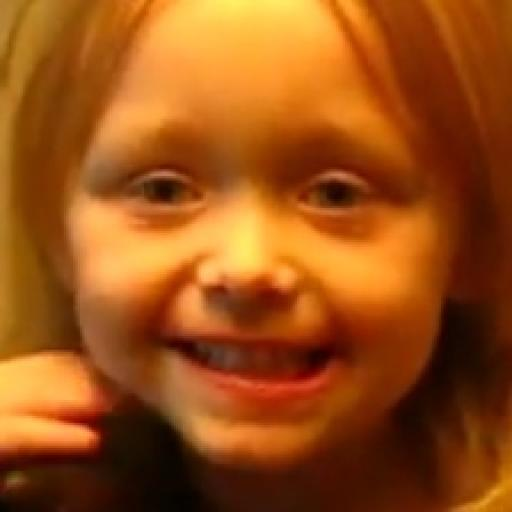Autism: (60, 0, 444, 460)
